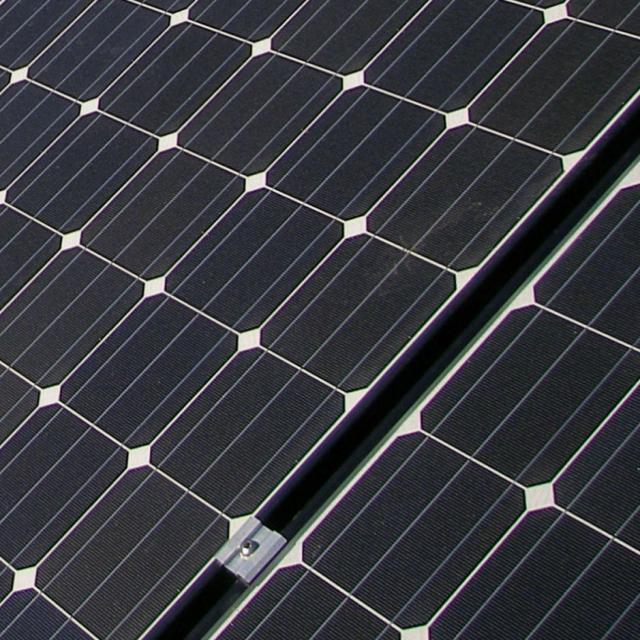clean-solar-panel: (0, 0, 640, 638), (221, 167, 640, 638)
